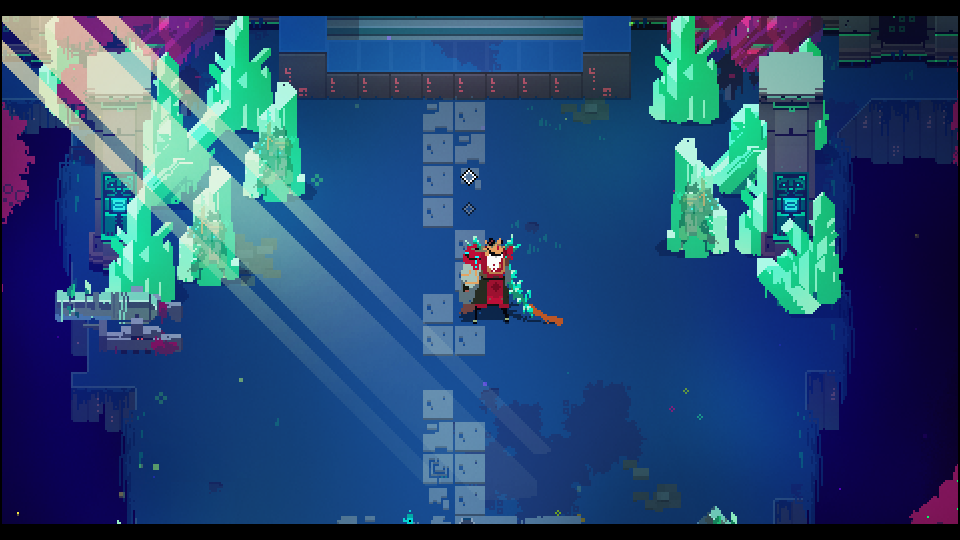hanged_man: (453, 232, 544, 325)
